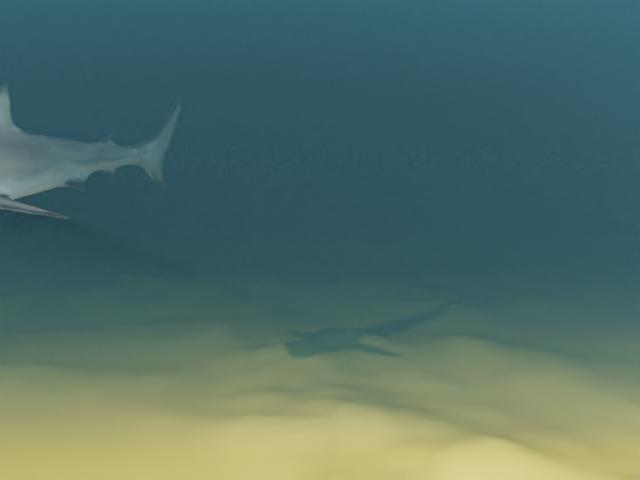Carribean Shark.001: (0, 83, 182, 218)
